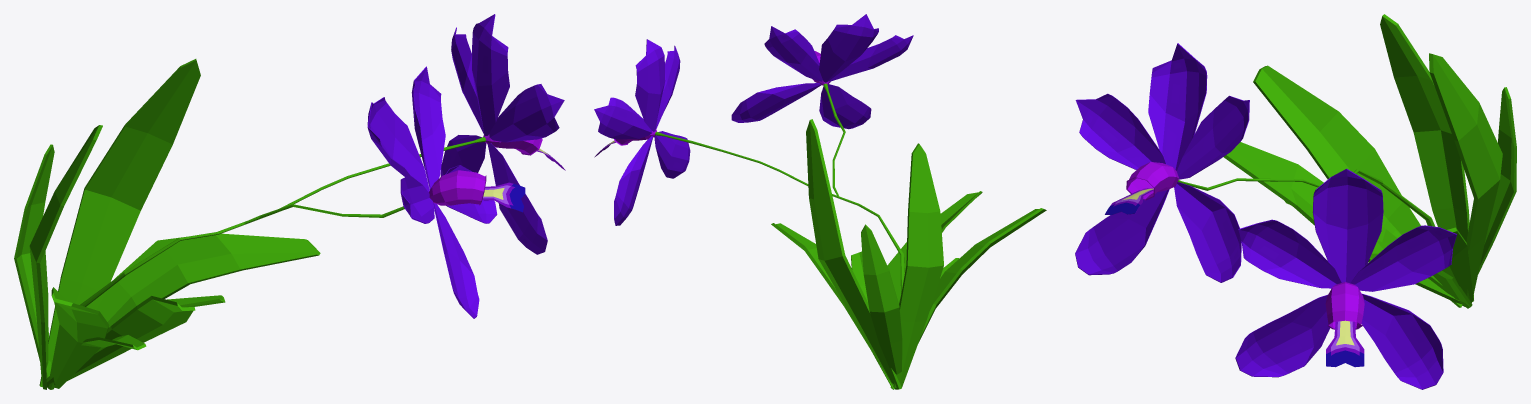
Rendered from orchidpoison1.fbx.
3 views of the same model, side by side, from view 1: azimuth 30°, elevation 25°; view 2: azimuth 150°, elevation 25°; view 3: azimuth 270°, elevation 25° (orthographic). The views are drawn at different scales.
Visible parts, largest first — view 1: Sphere.017, Sphere.018, Sphere.015, Sphere.021, Cube.032, Sphere.020, Sphere.016, Cube.030, Cube.042, Cube.043, Cube.028, Cube.046 (+9 smaller); view 2: Sphere.015, Sphere.017, Sphere.016, Cube.042, Cube.032, Sphere.021, Cube.045, Cube.043, Cube.031, Cube.046, Cube.029, Cube.044 (+6 smaller); view 3: Sphere.015, Sphere.021, Sphere.017, Cube.032, Cube.042, Cube.029, Cube.028, Cube.031, Cube.030, Cube.045, Cube.046, Cube.044 (+10 smaller).
Boxes of the visible parts, left/top/right/bottom form: Sphere.017: left=39, top=59, right=200, bottom=386; Sphere.018: left=96, top=233, right=320, bottom=327; Sphere.015: left=29, top=125, right=102, bottom=389; Sphere.021: left=49, top=287, right=109, bottom=388; Cube.032: left=472, top=14, right=509, bottom=135; Sphere.020: left=46, top=296, right=195, bottom=387; Sphere.016: left=14, top=144, right=54, bottom=380; Cube.030: left=489, top=84, right=564, bottom=142; Cube.042: left=367, top=97, right=429, bottom=192; Cube.043: left=411, top=66, right=445, bottom=189; Cube.028: left=487, top=143, right=547, bottom=254; Cube.046: left=433, top=203, right=479, bottom=318; Sphere.015: left=893, top=143, right=943, bottom=387; Sphere.017: left=806, top=119, right=901, bottom=389; Sphere.016: left=861, top=224, right=902, bottom=374; Cube.042: left=819, top=14, right=878, bottom=82; Cube.032: left=635, top=39, right=665, bottom=131; Sphere.021: left=918, top=208, right=1046, bottom=343; Cube.045: left=731, top=83, right=821, bottom=122; Cube.043: left=764, top=26, right=822, bottom=81; Cube.031: left=594, top=97, right=652, bottom=139; Cube.046: left=819, top=84, right=871, bottom=129; Cube.029: left=614, top=136, right=653, bottom=225; Cube.044: left=829, top=35, right=913, bottom=81; Sphere.015: left=1380, top=14, right=1473, bottom=301; Sphere.021: left=1253, top=65, right=1462, bottom=307; Sphere.017: left=1429, top=53, right=1502, bottom=303; Cube.032: left=1312, top=168, right=1383, bottom=283; Cube.042: left=1148, top=43, right=1207, bottom=170; Cube.029: left=1361, top=293, right=1443, bottom=389; Cube.028: left=1235, top=294, right=1329, bottom=377; Cube.031: left=1350, top=225, right=1457, bottom=291; Cube.030: left=1238, top=219, right=1341, bottom=288; Cube.045: left=1174, top=182, right=1241, bottom=282; Cube.046: left=1075, top=189, right=1169, bottom=275; Cube.044: left=1075, top=93, right=1166, bottom=169.
Size of the model in its own units: 1788 by 1086 by 1231.
